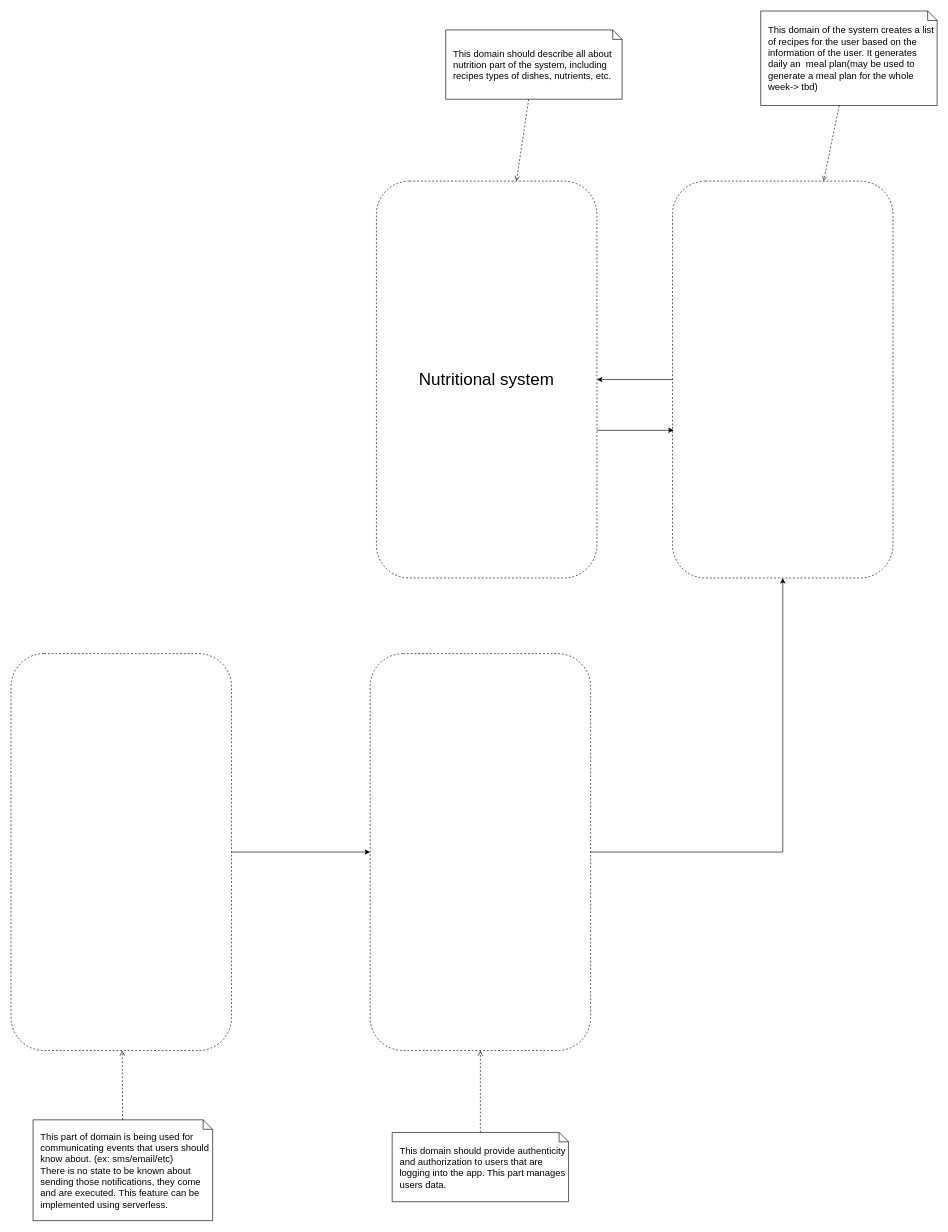
The diagram is 948 pixels wide and 1232 high, and some of its shapes have lost their labels. Here are the shapes that lost their labels. From the top down, the centre of each, then its label:
At [782,379]: "Planning system".
At [121,852]: "Notification system".
At [480,852]: "User Authenticity system".
